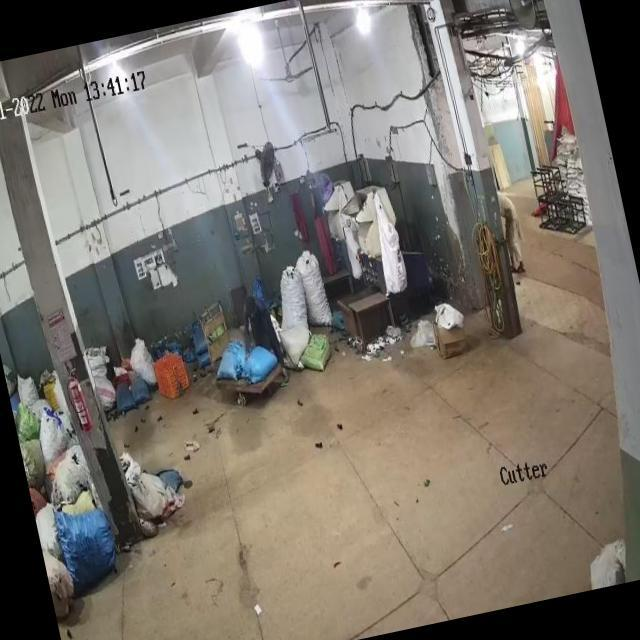person: (301, 166, 337, 272), (497, 182, 530, 278), (239, 298, 279, 356)
